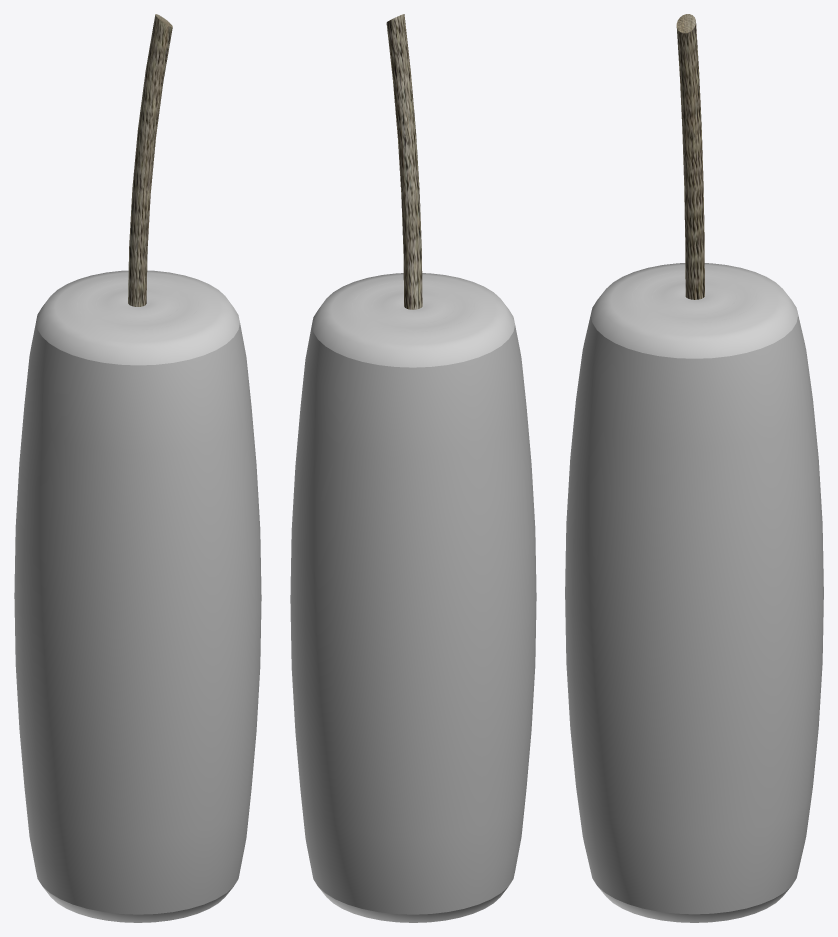
The model's file is punching bag metal1.FBX.
3 views of the same model, side by side, from view 1: azimuth 30°, elevation 25°; view 2: azimuth 150°, elevation 25°; view 3: azimuth 270°, elevation 25° (orthographic).
Parts seen in each view (by area): view 1: Cylinder001, Cylinder002; view 2: Cylinder001, Cylinder002; view 3: Cylinder001, Cylinder002.
Boxes of the visible parts, bbox=[...] form: Cylinder001: bbox=[14, 270, 261, 922]; Cylinder002: bbox=[128, 14, 172, 306]; Cylinder001: bbox=[290, 273, 536, 922]; Cylinder002: bbox=[386, 14, 422, 309]; Cylinder001: bbox=[565, 263, 823, 922]; Cylinder002: bbox=[676, 14, 704, 299].
Bounding box in the file's own units: 54.37 × 216 × 56.99.
